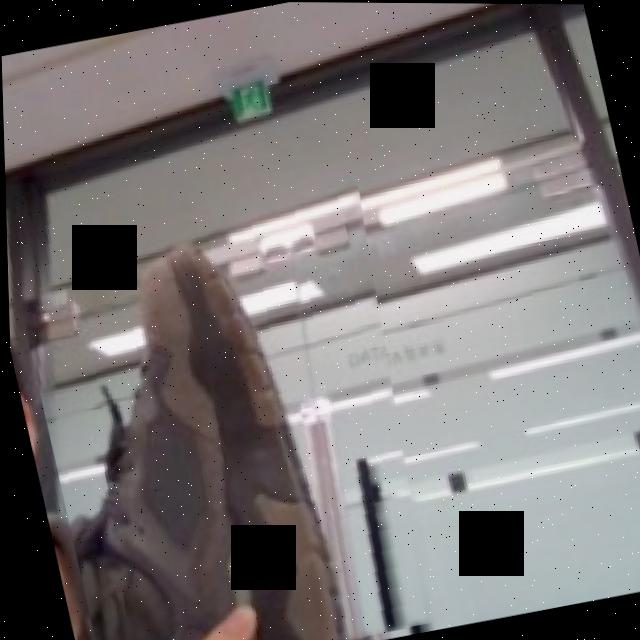shoe: (4, 155, 455, 640)
